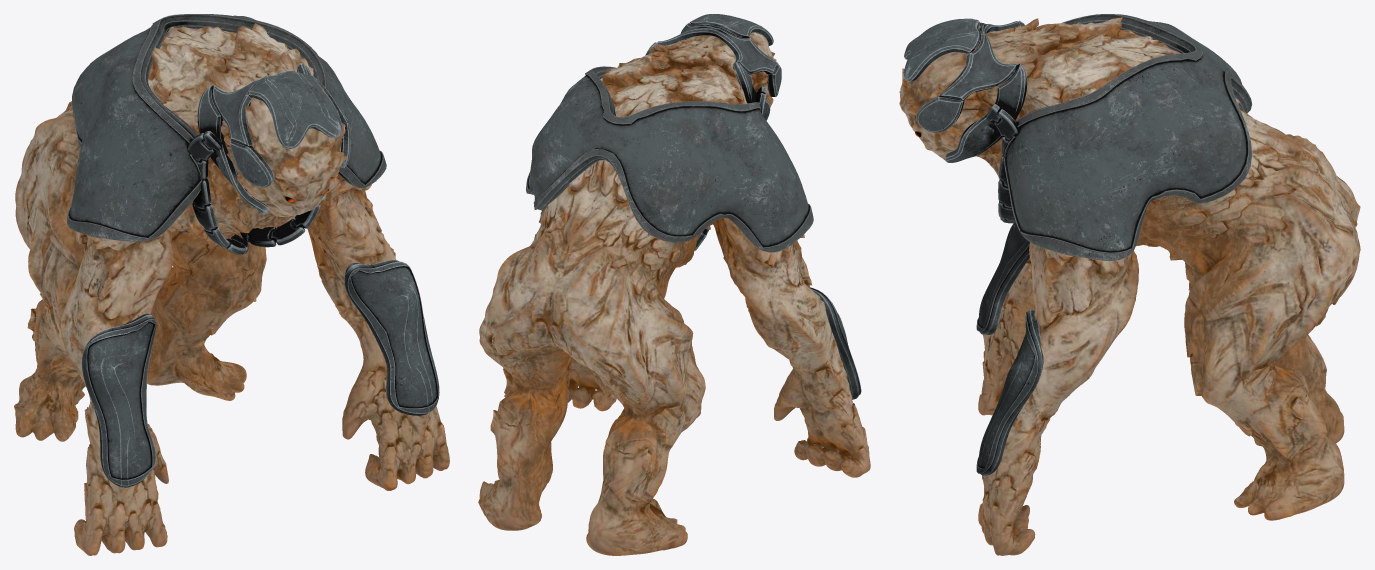
Rendered from cyber_creature_by_oscar_creativo.glb.
3 views of the same model, side by side, from view 1: azimuth 30°, elevation 25°; view 2: azimuth 150°, elevation 25°; view 3: azimuth 270°, elevation 25° (orthographic). The views are drawn at different scales.
Parts seen in each view (by area): view 1: CREATURE_3_CREATURE_3_0, ARMADURA_3_ARMADURA_3_0, ARMADURA_1_ARMADURA_1_0, ARMADURA_2_ARMADURA_2_0, CORREAS_CORREAS_0; view 2: CREATURE_3_CREATURE_3_0, ARMADURA_3_ARMADURA_3_0, ARMADURA_2_ARMADURA_2_0, ARMADURA_1_ARMADURA_1_0; view 3: CREATURE_3_CREATURE_3_0, ARMADURA_3_ARMADURA_3_0, ARMADURA_2_ARMADURA_2_0, ARMADURA_1_ARMADURA_1_0, CORREAS_CORREAS_0.
Part boxes in pixels (<box>): CREATURE_3_CREATURE_3_0: <box>14,23,449,555</box>; ARMADURA_3_ARMADURA_3_0: <box>67,14,386,241</box>; ARMADURA_1_ARMADURA_1_0: <box>81,260,439,487</box>; ARMADURA_2_ARMADURA_2_0: <box>197,63,351,214</box>; CORREAS_CORREAS_0: <box>183,131,322,254</box>; CREATURE_3_CREATURE_3_0: <box>478,32,870,555</box>; ARMADURA_3_ARMADURA_3_0: <box>526,66,813,252</box>; ARMADURA_2_ARMADURA_2_0: <box>645,14,781,120</box>; ARMADURA_1_ARMADURA_1_0: <box>809,287,861,399</box>; CREATURE_3_CREATURE_3_0: <box>899,17,1360,555</box>; ARMADURA_3_ARMADURA_3_0: <box>1003,14,1252,261</box>; ARMADURA_2_ARMADURA_2_0: <box>903,18,1027,162</box>; ARMADURA_1_ARMADURA_1_0: <box>976,223,1043,475</box>; CORREAS_CORREAS_0: <box>986,104,1018,223</box>.
Size of what is drawn, in the model's own units: 53.84 by 63.04 by 59.3.
6 materials, 6 textured.
